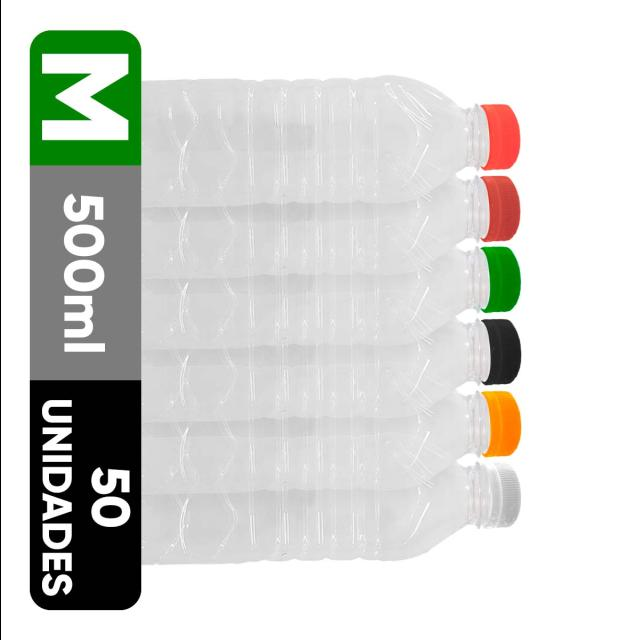bottle: (141, 76, 489, 206), (141, 176, 519, 279), (141, 246, 519, 349), (141, 391, 519, 494), (141, 463, 519, 564), (141, 320, 519, 421)
